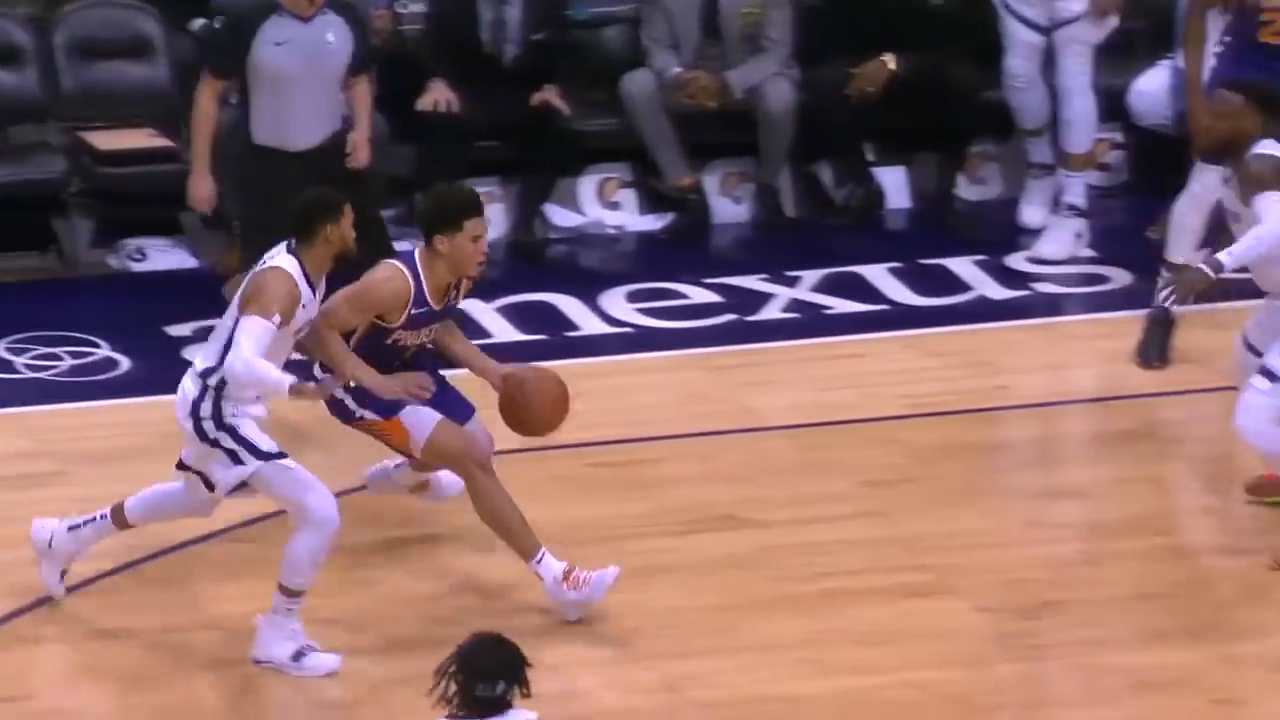ball: (500, 370, 571, 434)
